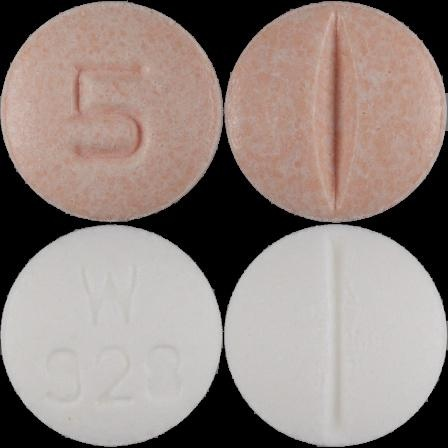53808-0451: (0, 0, 224, 224)
